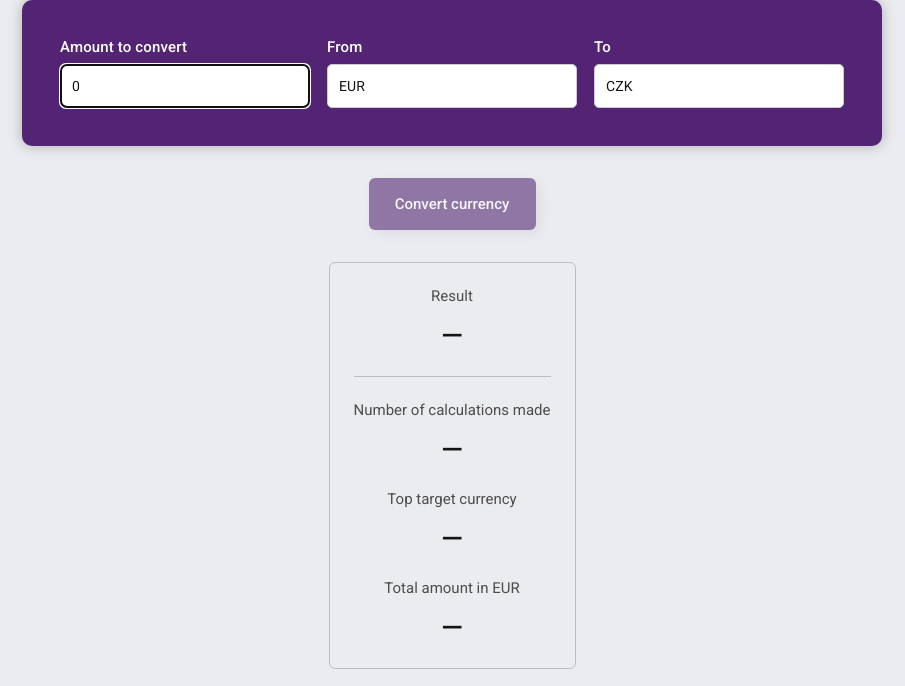
Test: the conversion form › submits a valid conversion and renders the formatted result
The width and height of the screenshot is (905, 686).
Type "100" into the field labelled "Amount to convert" at (185, 86), box [60, 64, 310, 108]
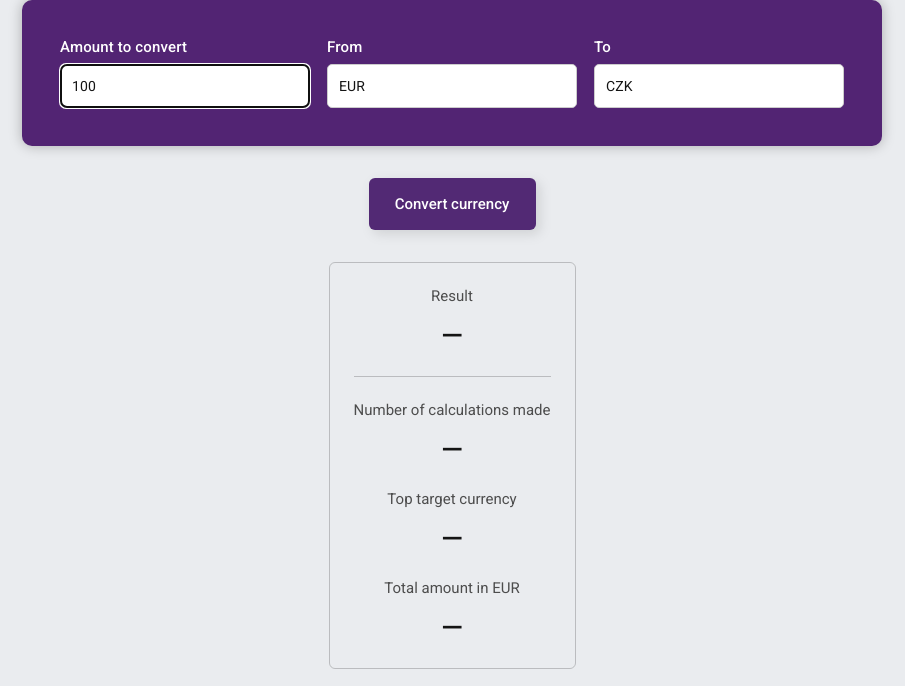
Click the button "Convert currency" at (452, 204), box [368, 178, 536, 230]
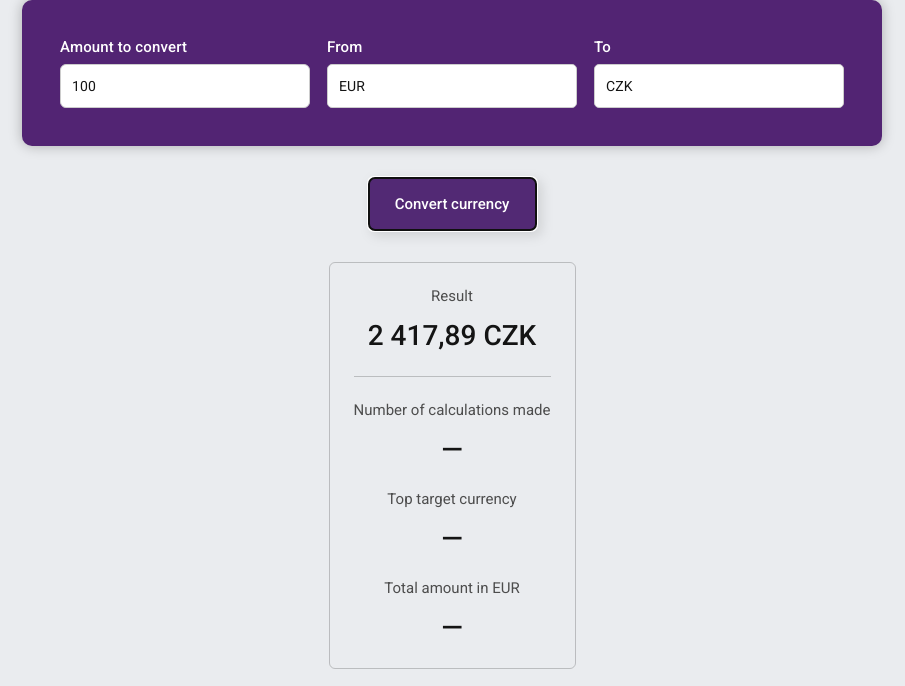
Expected: the text "2 417,89 CZK" is shown, [368, 319, 536, 352]
